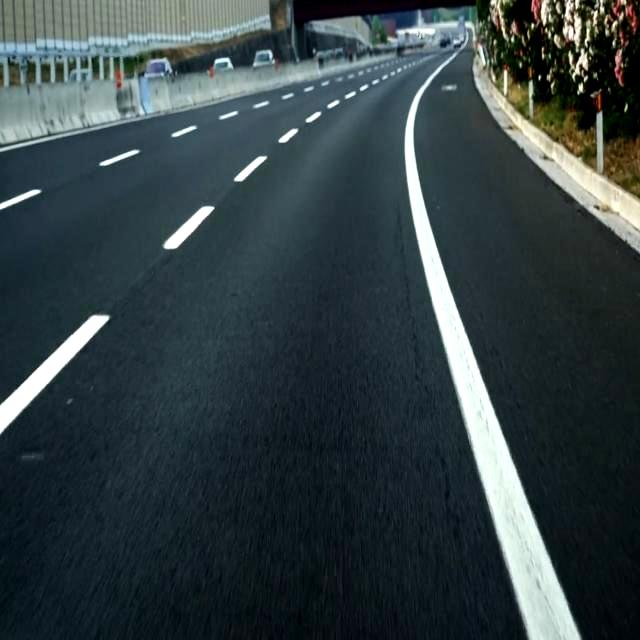lane: (406, 52, 580, 639), (0, 315, 109, 433), (164, 206, 213, 249), (234, 156, 268, 182), (0, 189, 41, 209), (99, 149, 140, 166), (279, 129, 298, 144)
road: (0, 53, 526, 639), (415, 48, 639, 639)
